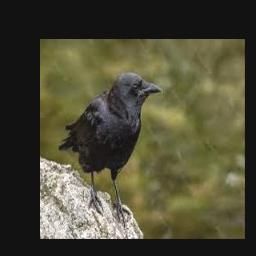Crow: (60, 73, 163, 224)
